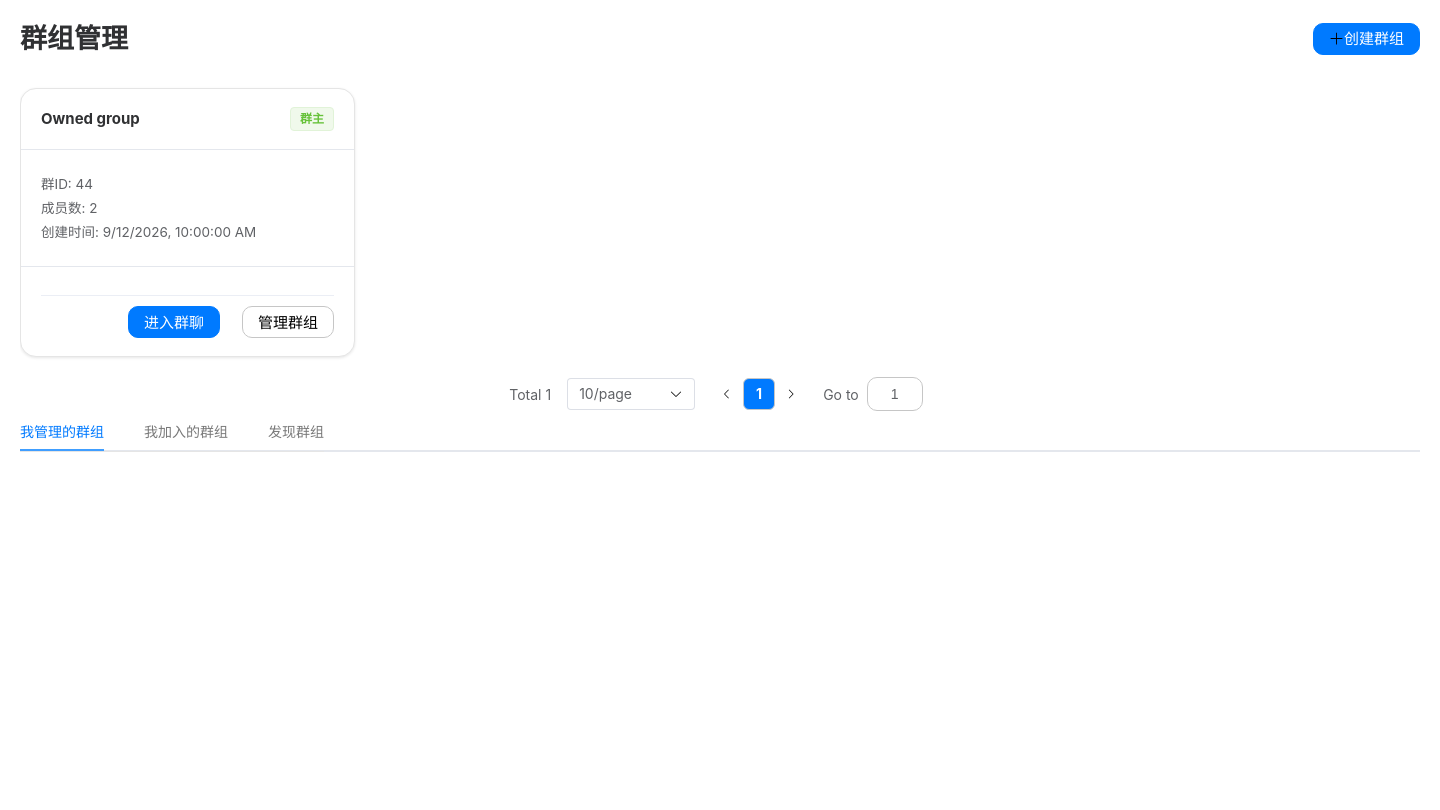
Test: routed group page journeys with real API responses › uses discovery roles independently of the membership page in GroupPage
Click the tab "发现群组" at (296, 431), box [268,423,324,440]
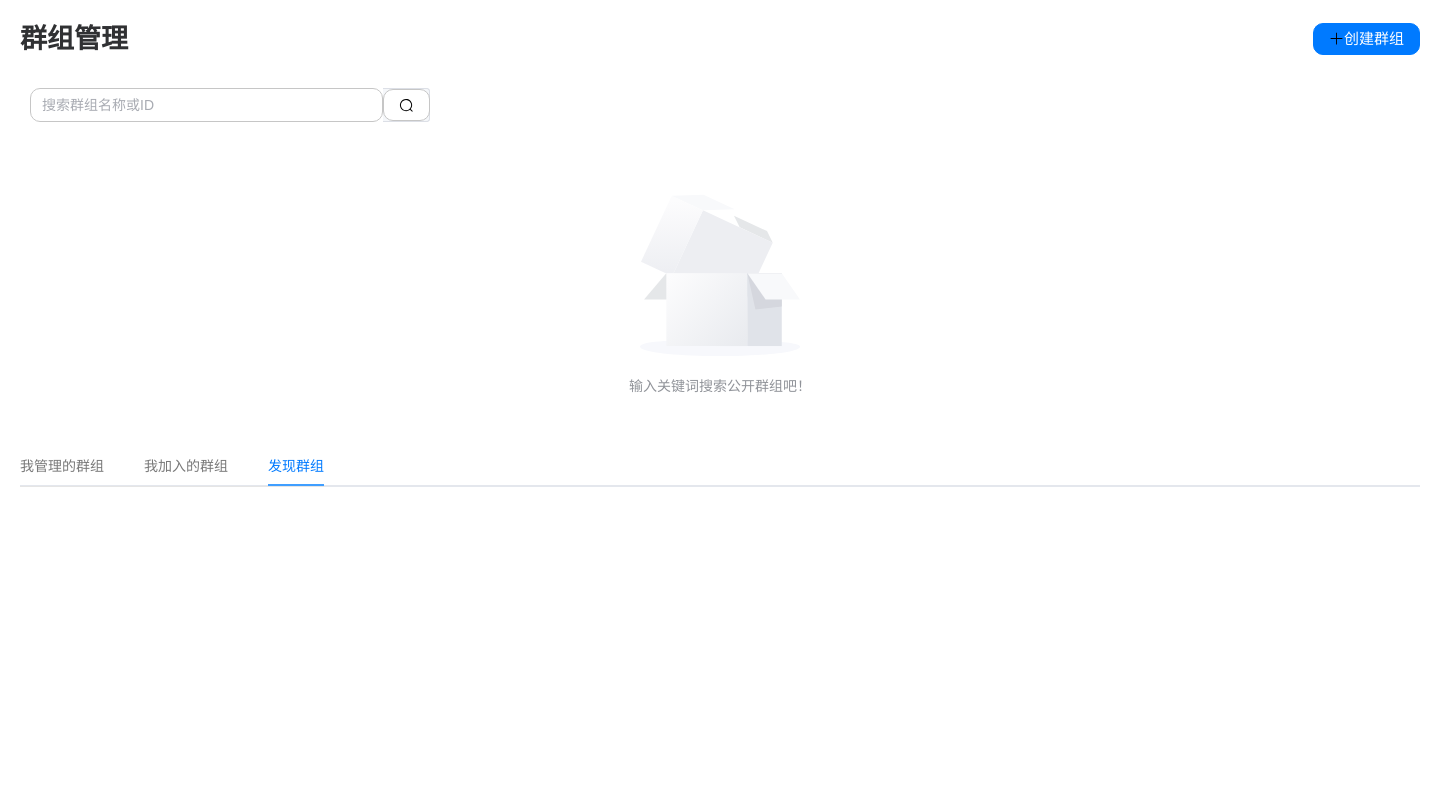
Type "Discovery" into the field with placeholder "搜索群组名称或ID" at (206, 105), box [42,90,371,120]
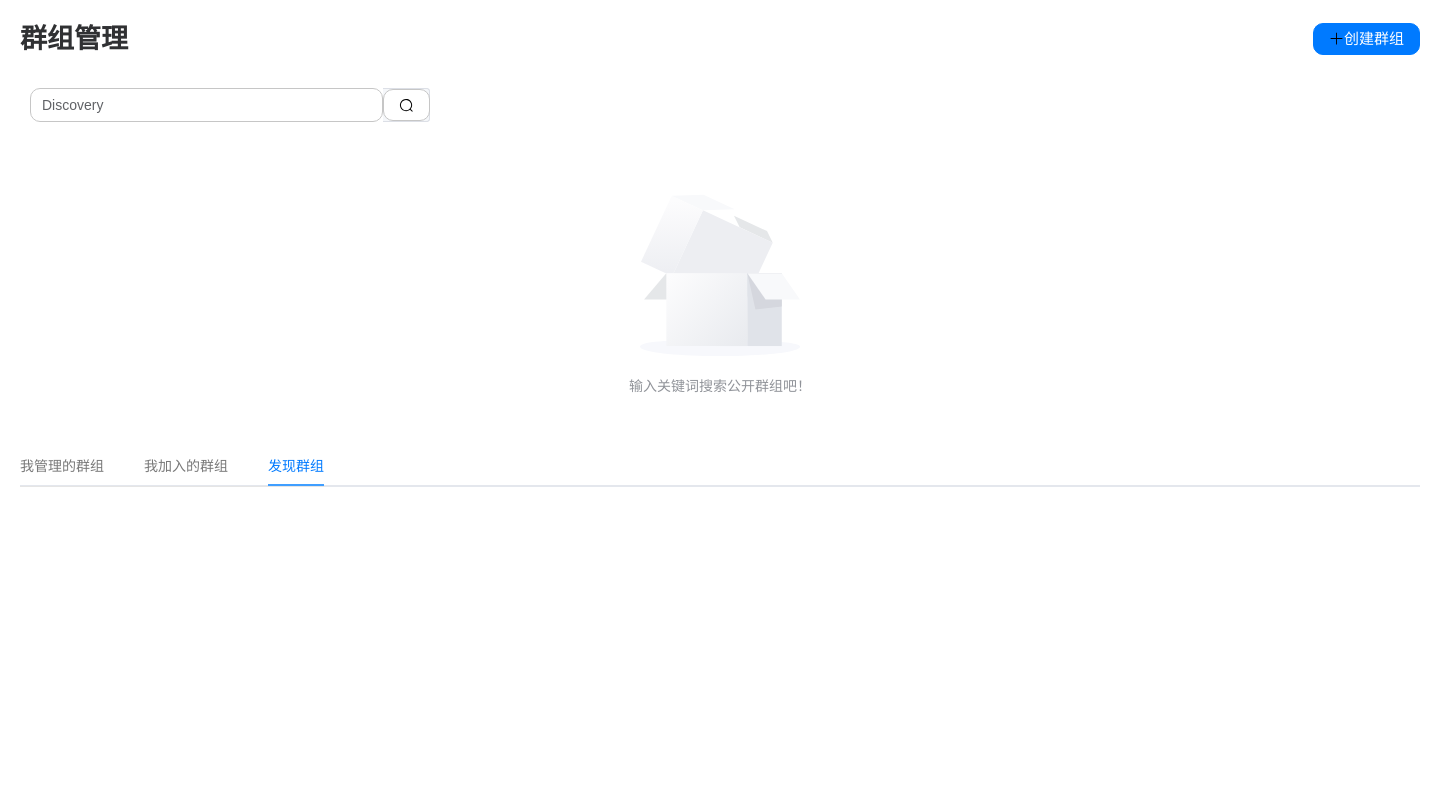
Click the 2nd button at (406, 105), box [383,89,430,121]
(page scrolled)
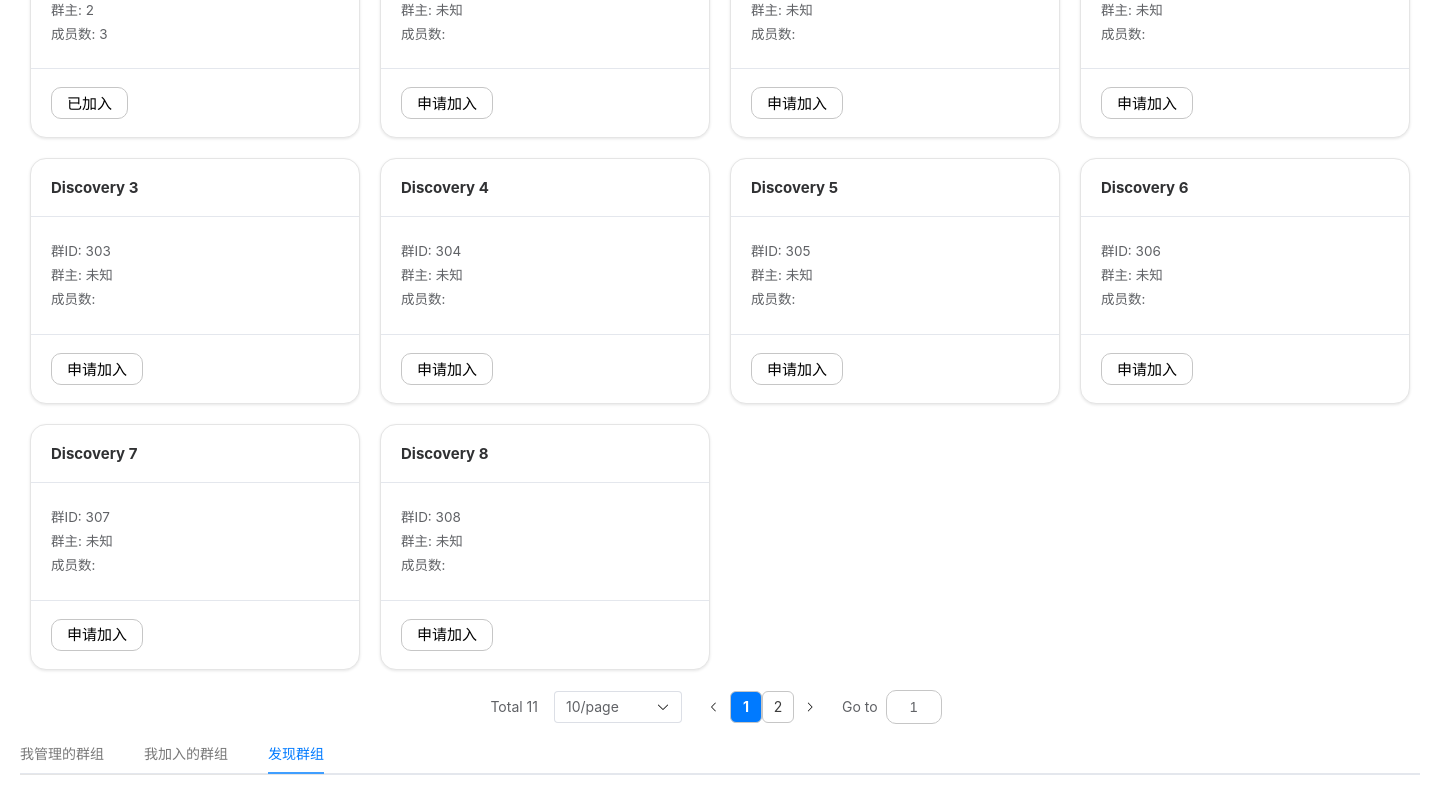
Check: the number of elements with class "group-card" is 10
Check: the button "已加入" is disabled, box [51,88,128,120]
Click the button with class "btn-next" at (810, 707), box [794,691,826,723]
(page scrolled)
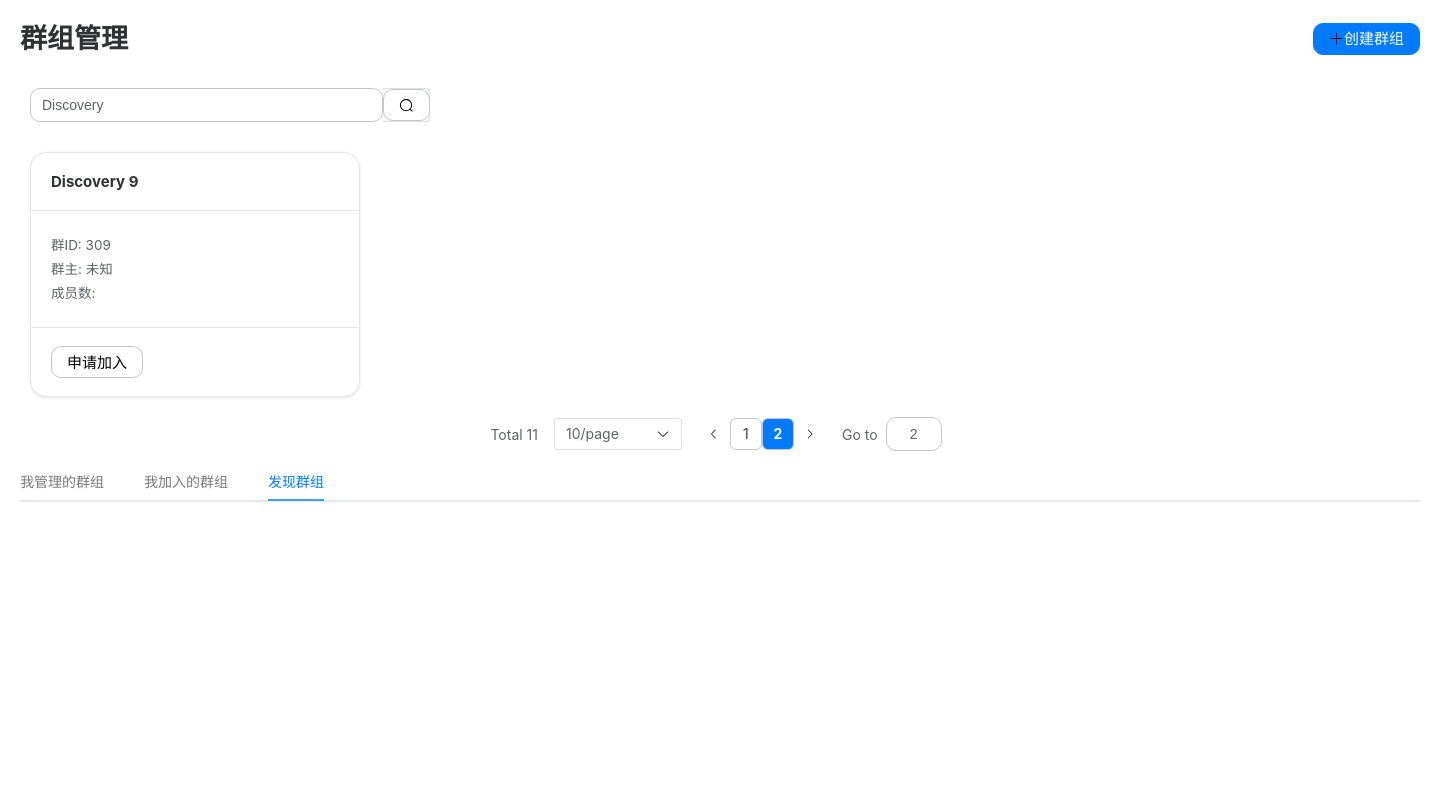
Check: the number of elements with class "group-card" is 1, box [30,152,360,398]
Check: the panel shows "Discovery 9", box [51,172,138,191]
